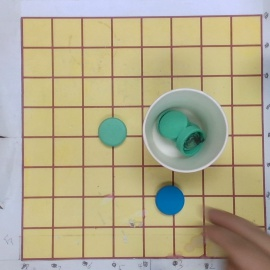blue: (155, 186, 184, 216)
cup_green: (145, 88, 229, 175)
green: (97, 118, 127, 146)
